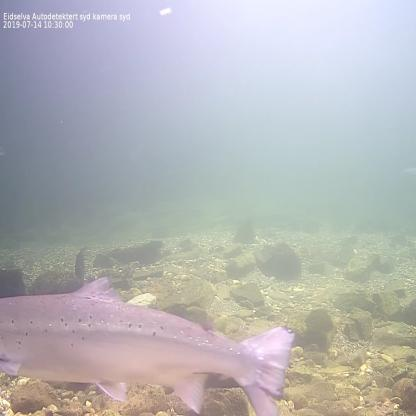salmon: (0, 274, 297, 416)
